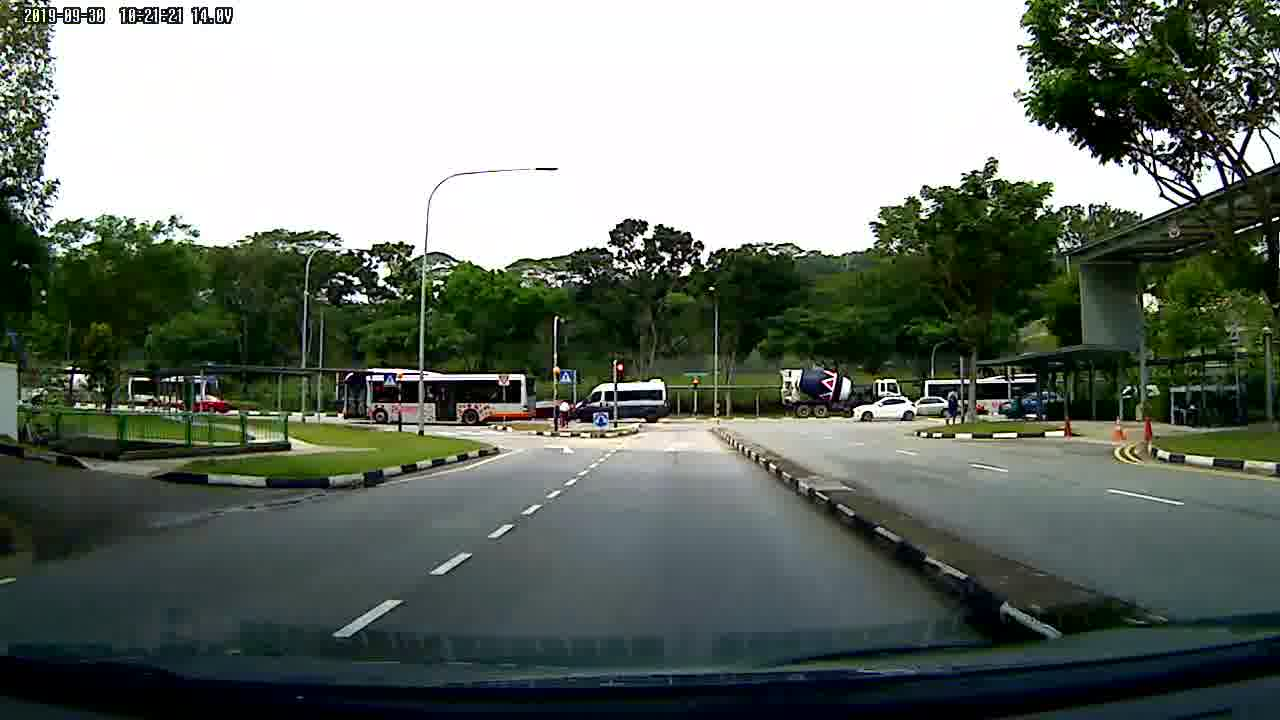bus: (339, 364, 537, 427), (124, 370, 231, 413)
car: (851, 395, 917, 425), (912, 398, 948, 418)
